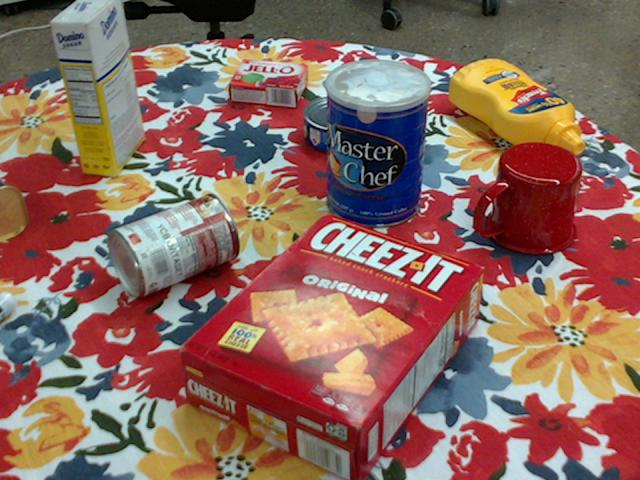cracker_box: (176, 215, 481, 479)
gelatin_box: (225, 61, 306, 109)
large_marker: (0, 291, 16, 320)
master_chef_can: (325, 60, 430, 229)
mug: (474, 142, 580, 256)
mustard_bottle: (447, 58, 582, 155)
potted_meat_can: (0, 179, 26, 240)
sugar_box: (51, 0, 143, 174)
tomato_soup_can: (105, 193, 237, 298)
tuna_fish_can: (302, 96, 375, 154)
